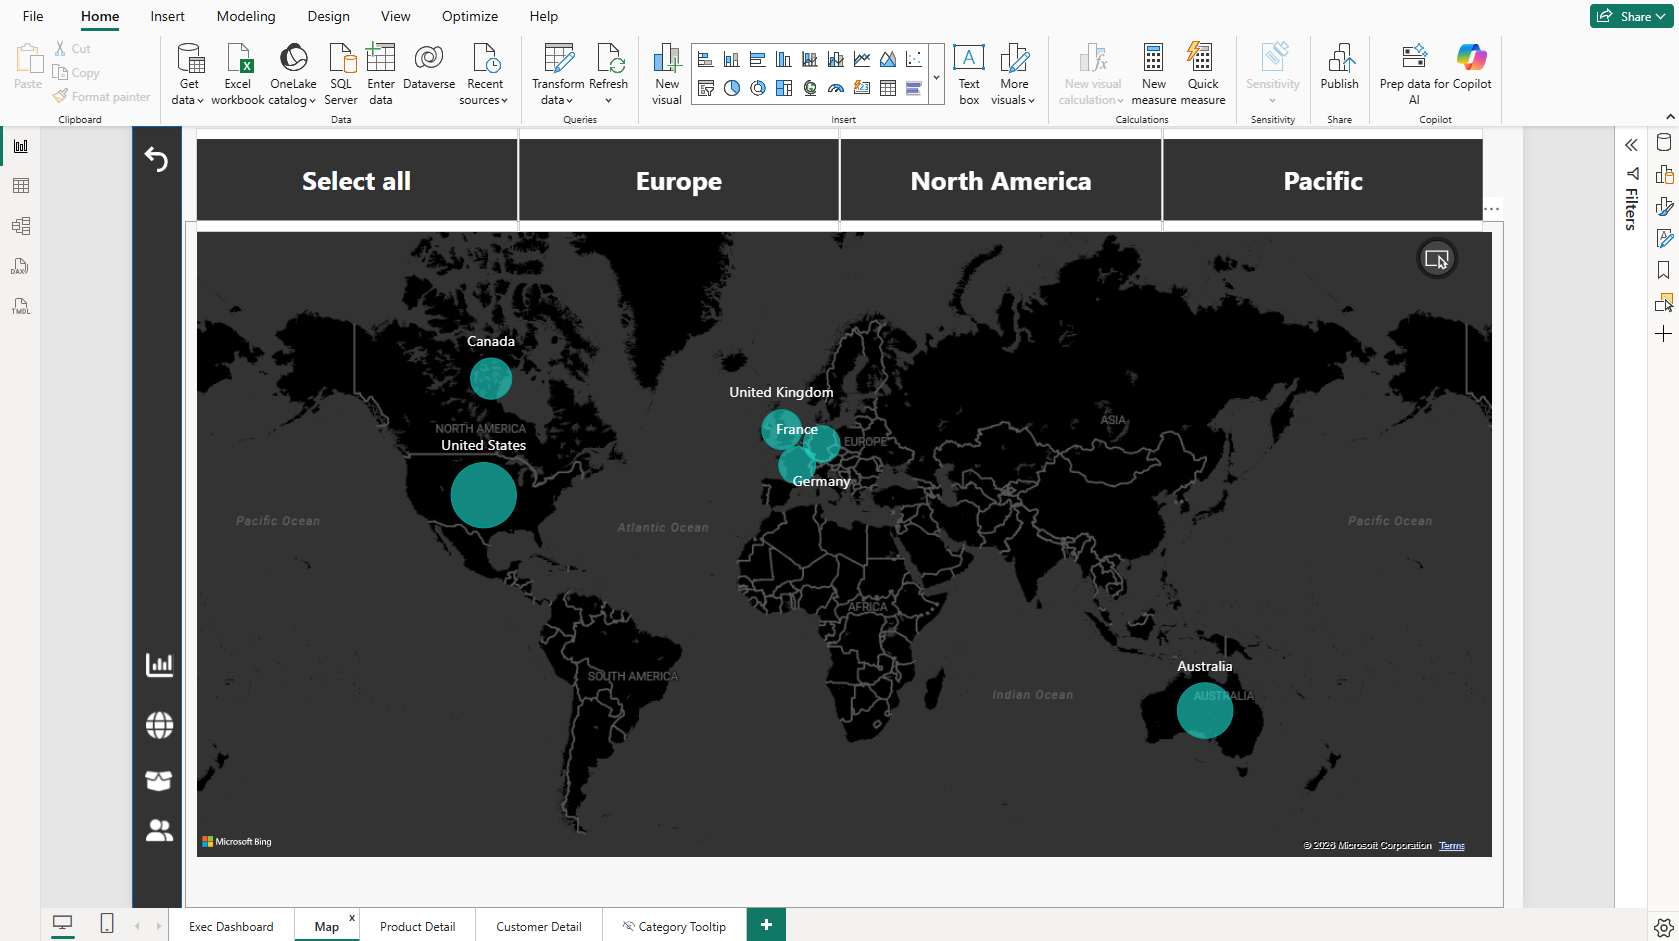

The page's visual inventory and layout, read from the dashboard file:
{"tool":"powerbi","page":{"name":"Map","canvas":[1280,720],"ordinal":1},"visuals":[{"type":"map","fields":{"Category":["Territory Lookup.Country"],"Size":["Measures Table.Total Orders"]},"box":[48.6,87.1,1214.3,632.9],"z":0},{"type":"slicer","fields":{"Values":["Territory Lookup.Continent"]},"box":[38.6,0,1224.3,98.6],"z":1000},{"type":"shape","title":"Left Nav Background","box":[0,0,46.3,2132.3],"z":2000},{"type":"actionButton","box":[1.5,13.9,40.1,34],"z":3000},{"type":"group","id":"g1","title":"Nav Buttons","box":[0,464.8,49.4,216.2],"z":4000},{"type":"actionButton","box":[1,520.2,49,63],"z":15000,"group":"g1"},{"type":"actionButton","box":[0,571.2,49,63],"z":16000,"group":"g1"},{"type":"actionButton","box":[1,616.8,49,63],"z":17000,"group":"g1"},{"type":"actionButton","box":[1,464.8,49,63],"z":18000,"group":"g1"}]}

Visuals, with their boxes on the page's 1280x720 design canvas (x1, y1, x2, y2). These are canvas units, not pixel positions in the 1679x941 screenshot, which may show the page scaled, cropped or inside an application window:
map - Territory Lookup.Country x Measures Table.Total Orders: box(49, 87, 1263, 720)
slicer - Territory Lookup.Continent: box(39, 0, 1263, 99)
"Left Nav Background" shape: box(0, 0, 46, 2132)
actionButton: box(2, 14, 42, 48)
"Nav Buttons" group: box(0, 465, 49, 681)
actionButton: box(1, 520, 50, 583)
actionButton: box(0, 571, 49, 634)
actionButton: box(1, 617, 50, 680)
actionButton: box(1, 465, 50, 528)
